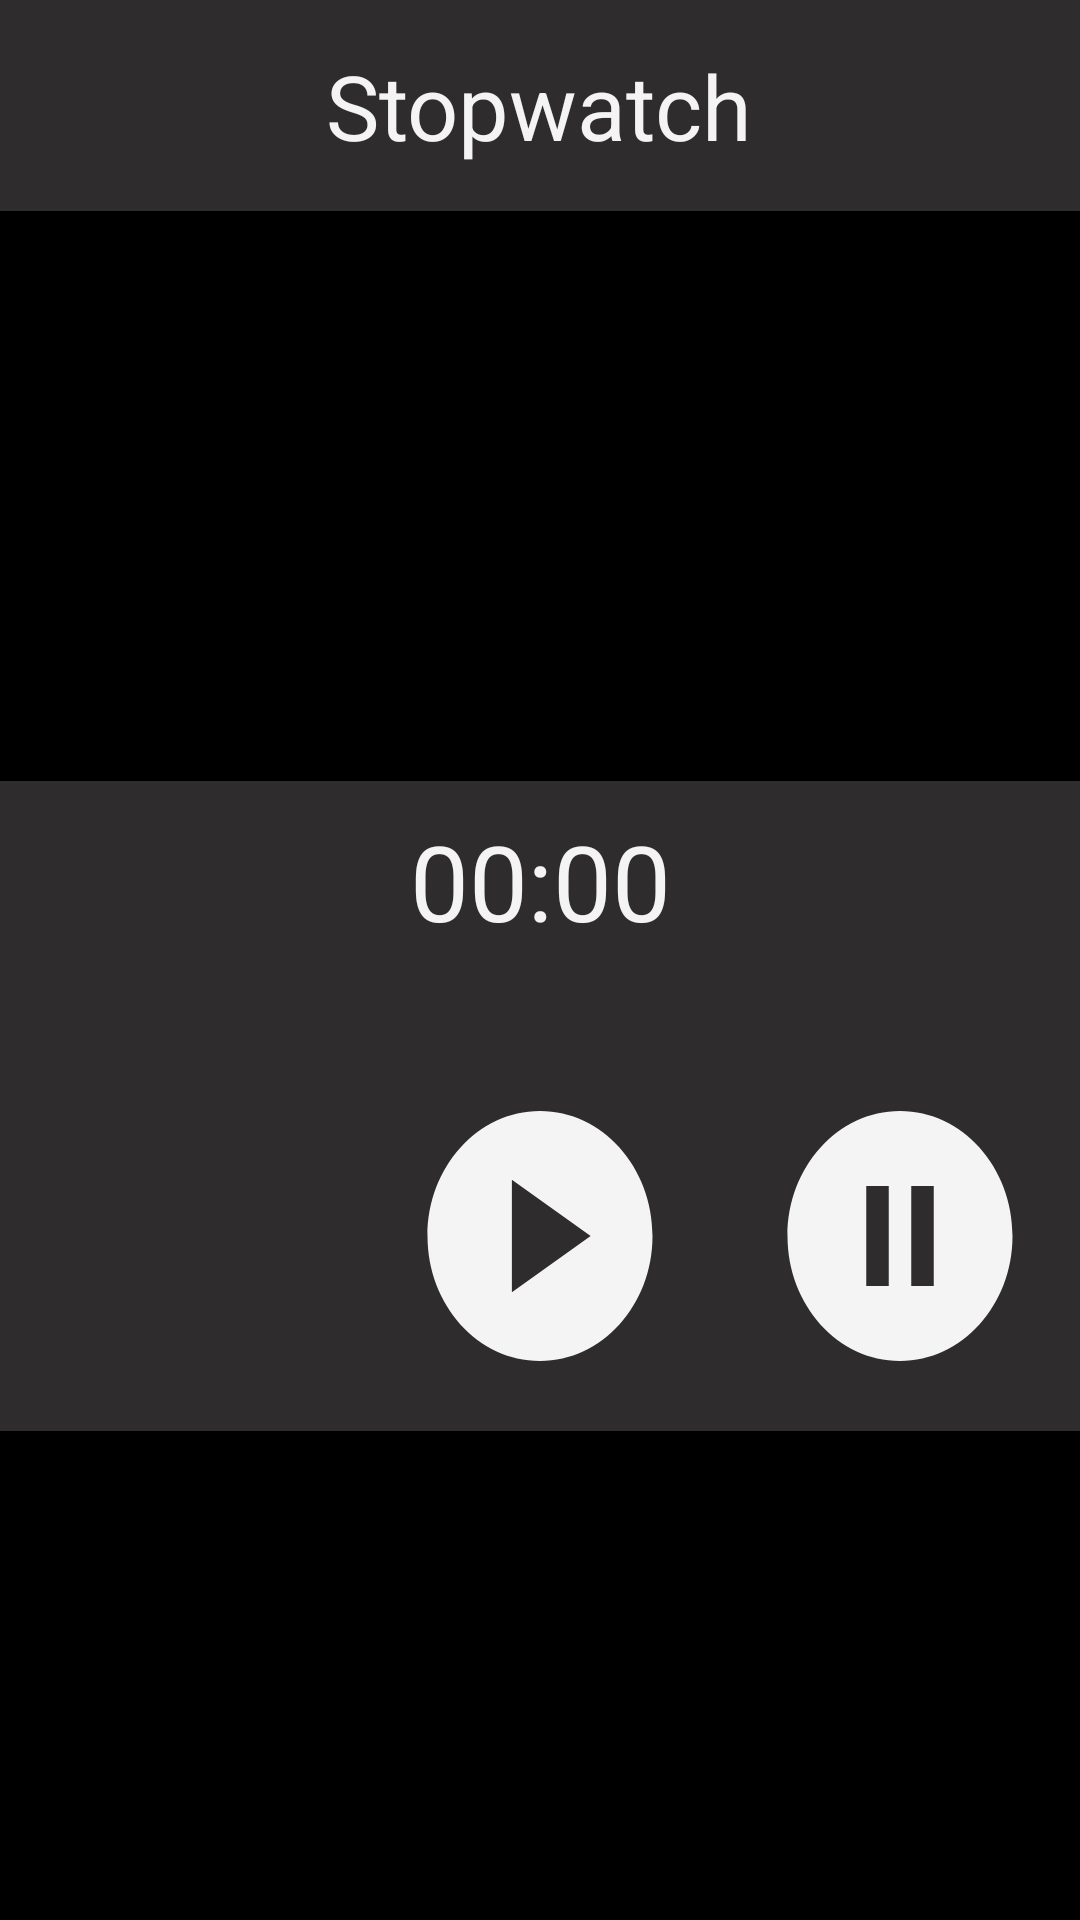

Locate icon controls on the screen. Image size 1080*1920, boxes as bbox=[x1, y1, x2, y2].
pause btn: bbox=[787, 1111, 1013, 1361]
start btn: bbox=[427, 1111, 653, 1361]
